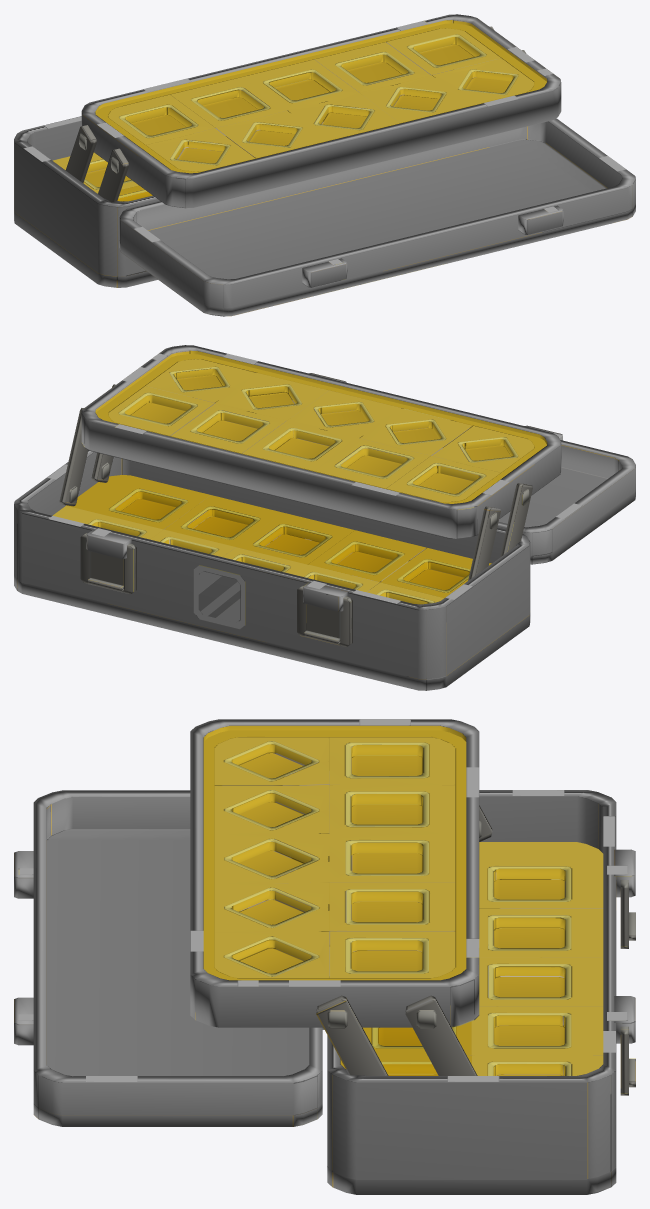
The model's file is G_stonebox.fbx.
3 renders of one model, top to bottom at view 1: azimuth 30°, elevation 25°; view 2: azimuth 150°, elevation 25°; view 3: azimuth 270°, elevation 25°, orthographic. The views are drawn at different scales.
Parts seen in each view (by area): view 1: G_stonebox; view 2: G_stonebox; view 3: G_stonebox.
Boxes of the visible parts, left/top/right/bottom form: G_stonebox: left=14, top=14, right=635, bottom=316; G_stonebox: left=14, top=345, right=635, bottom=690; G_stonebox: left=14, top=719, right=635, bottom=1194.
Bounding box in the file's own units: 9.29 × 2.9 × 8.34.
1 material, 1 textured.
